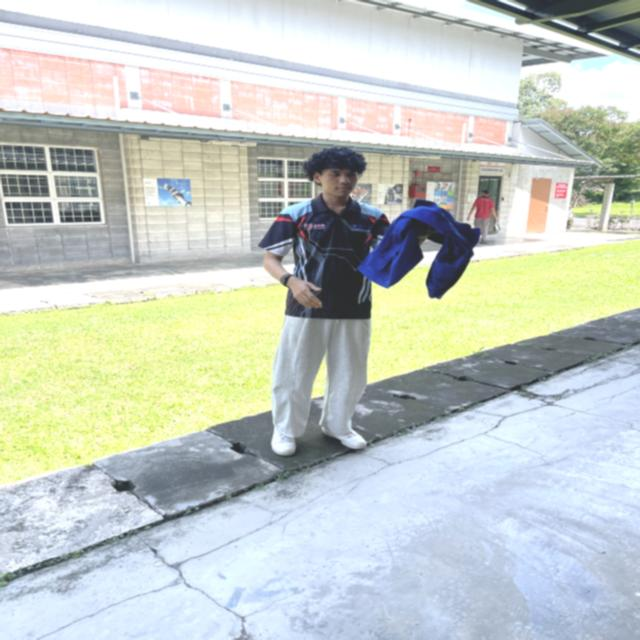person_without_labcoat: (259, 147, 478, 456)
